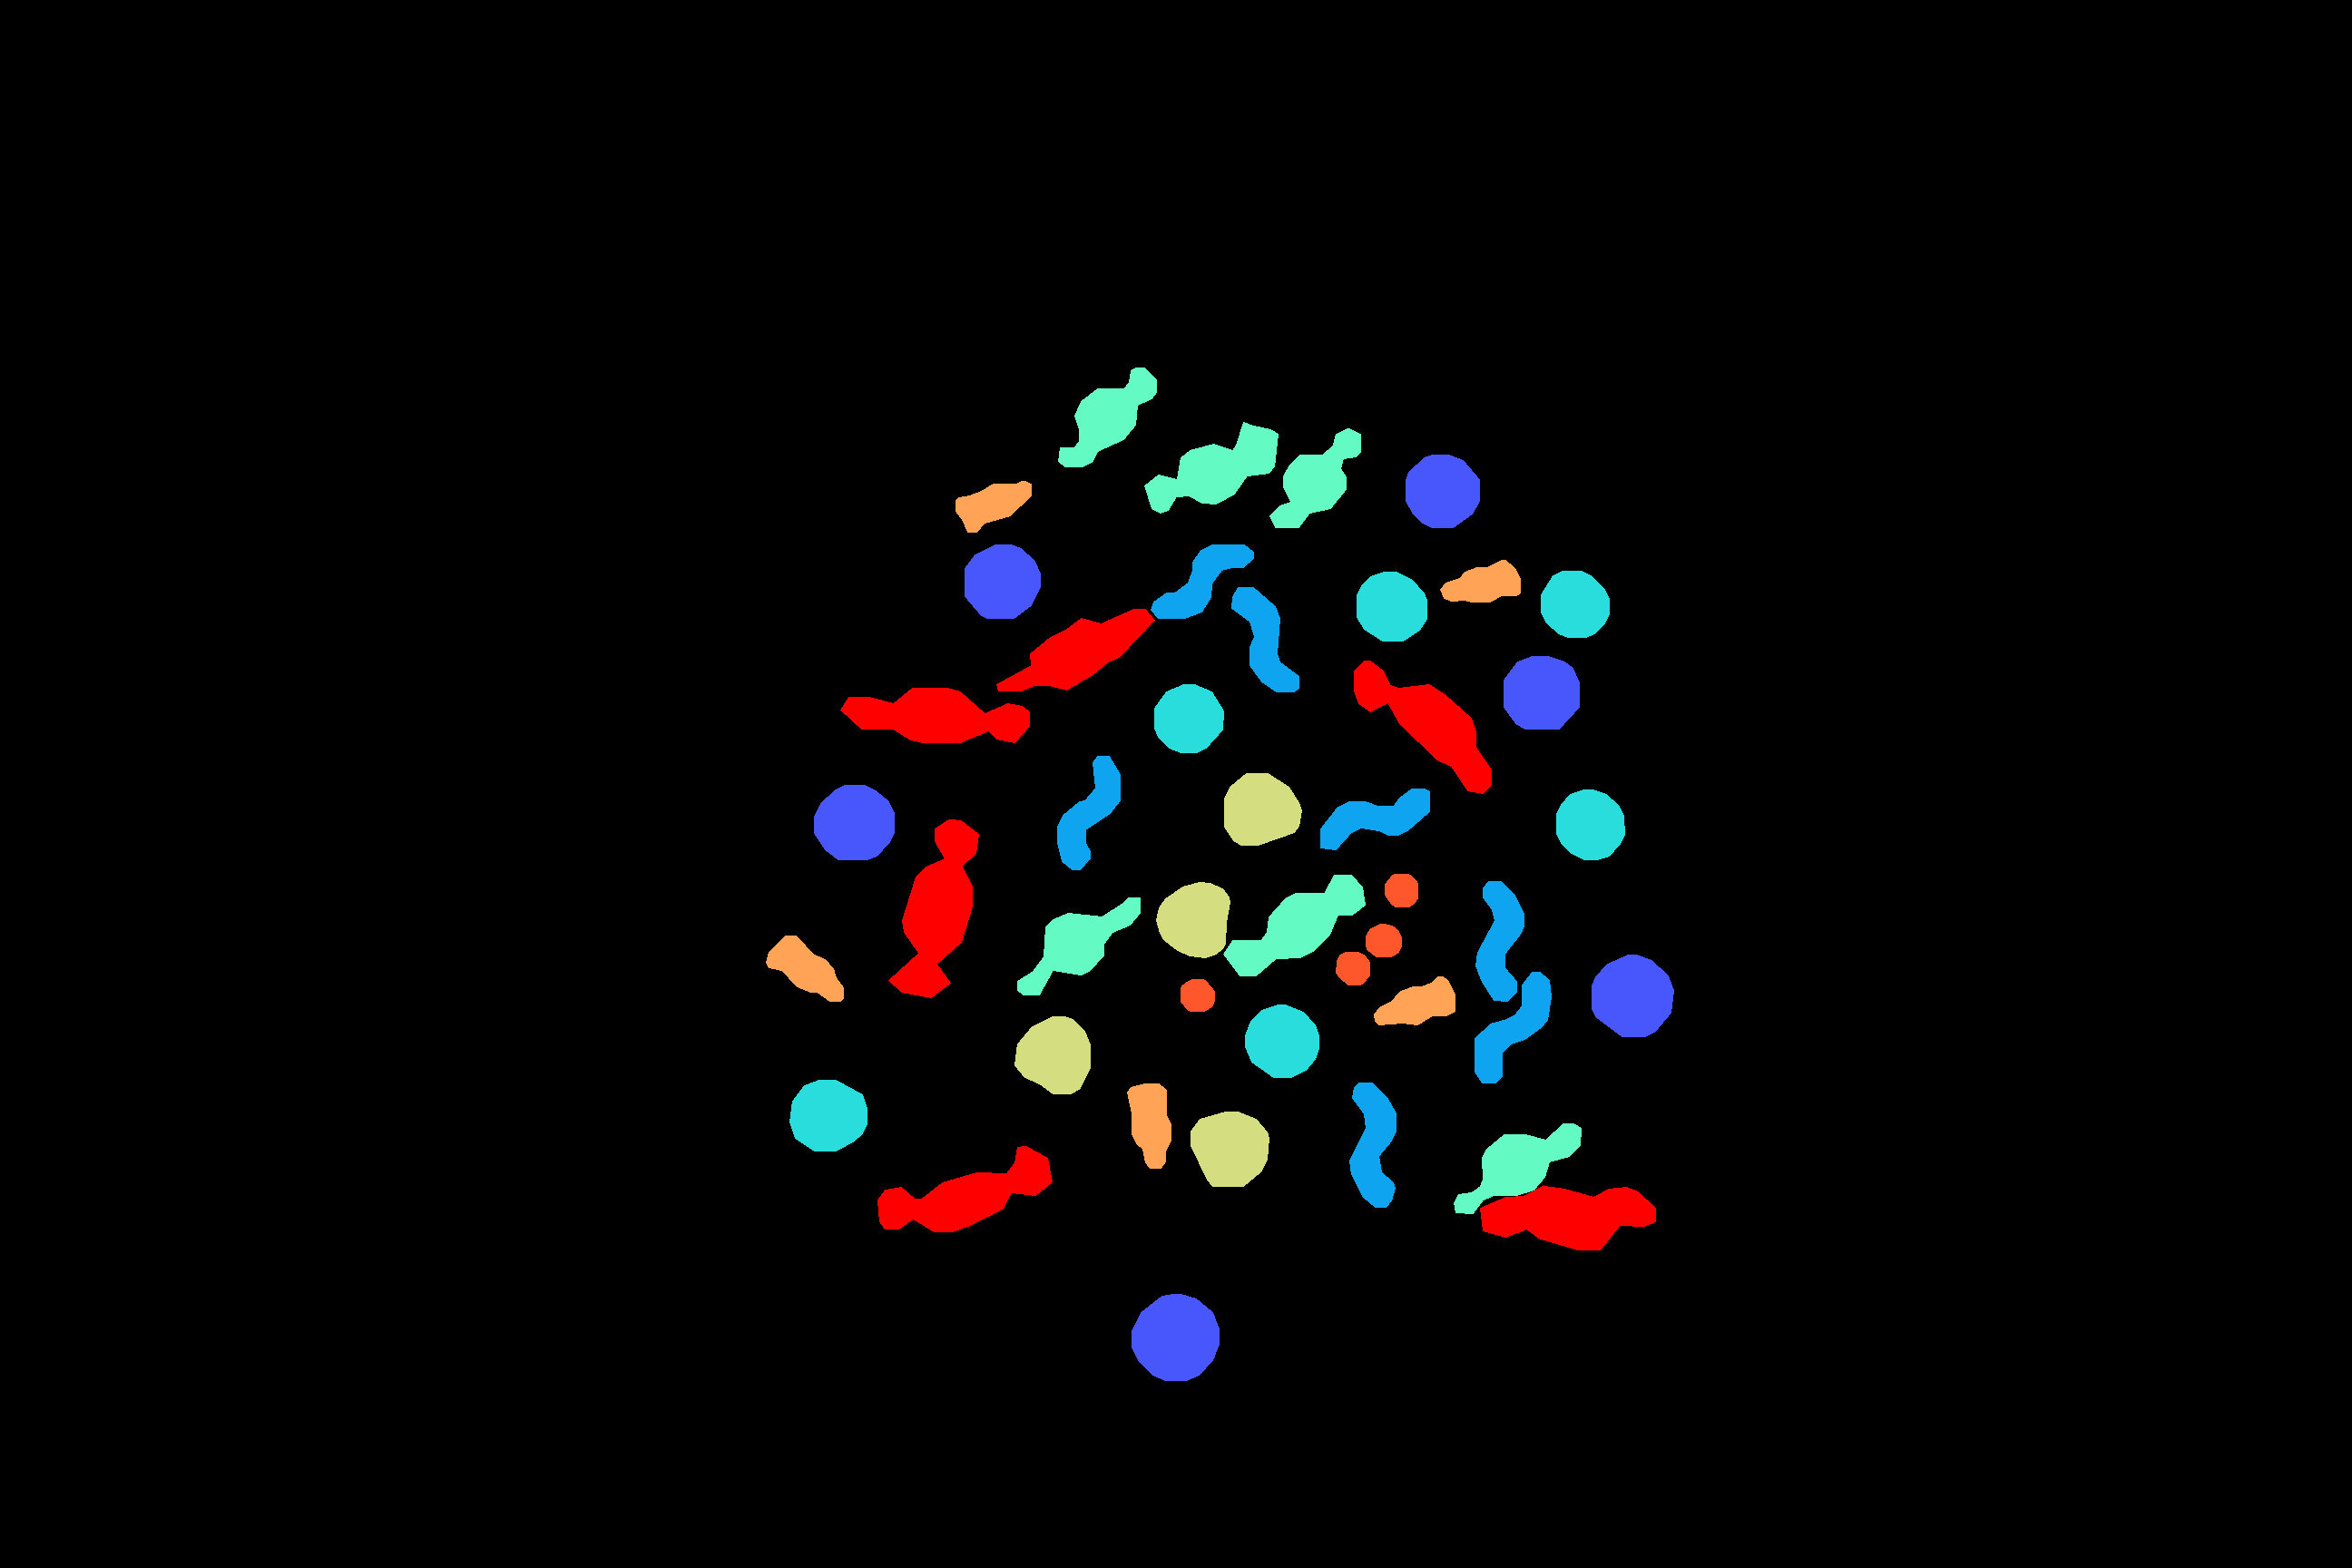apricot_jellies: (1190, 1111, 1269, 1187), (1015, 1017, 1090, 1094), (1223, 773, 1302, 845), (1157, 882, 1230, 957)
coin_candy: (1132, 1293, 1218, 1381), (1591, 954, 1673, 1036), (814, 786, 894, 859), (964, 544, 1040, 618), (1503, 656, 1579, 728), (1405, 455, 1479, 527)
cola bottle candies: (767, 936, 843, 1001), (955, 481, 1031, 532), (1374, 976, 1454, 1024), (1127, 1083, 1171, 1167), (1440, 560, 1521, 602)
riesen: (1354, 660, 1491, 793), (889, 819, 978, 997), (877, 1146, 1052, 1232), (996, 609, 1155, 691), (1481, 1185, 1656, 1249), (840, 688, 1029, 742)
skittles: (1365, 924, 1402, 957), (1384, 873, 1417, 906), (1335, 952, 1368, 985), (1181, 978, 1215, 1012)
sourworms: (1475, 971, 1551, 1083), (1150, 544, 1253, 618), (1057, 756, 1120, 870), (1232, 586, 1298, 691), (1319, 789, 1430, 849), (1475, 880, 1524, 1001), (1349, 1083, 1395, 1207)
tofifee: (789, 1080, 866, 1150), (1244, 1004, 1318, 1076), (1556, 789, 1624, 859), (1356, 572, 1426, 640), (1155, 684, 1223, 753), (1540, 571, 1608, 637)
vollmilch_brocken: (1223, 875, 1365, 975), (1144, 422, 1277, 513), (1017, 898, 1139, 994), (1454, 1123, 1580, 1213), (1059, 367, 1157, 467), (1269, 429, 1360, 527)
